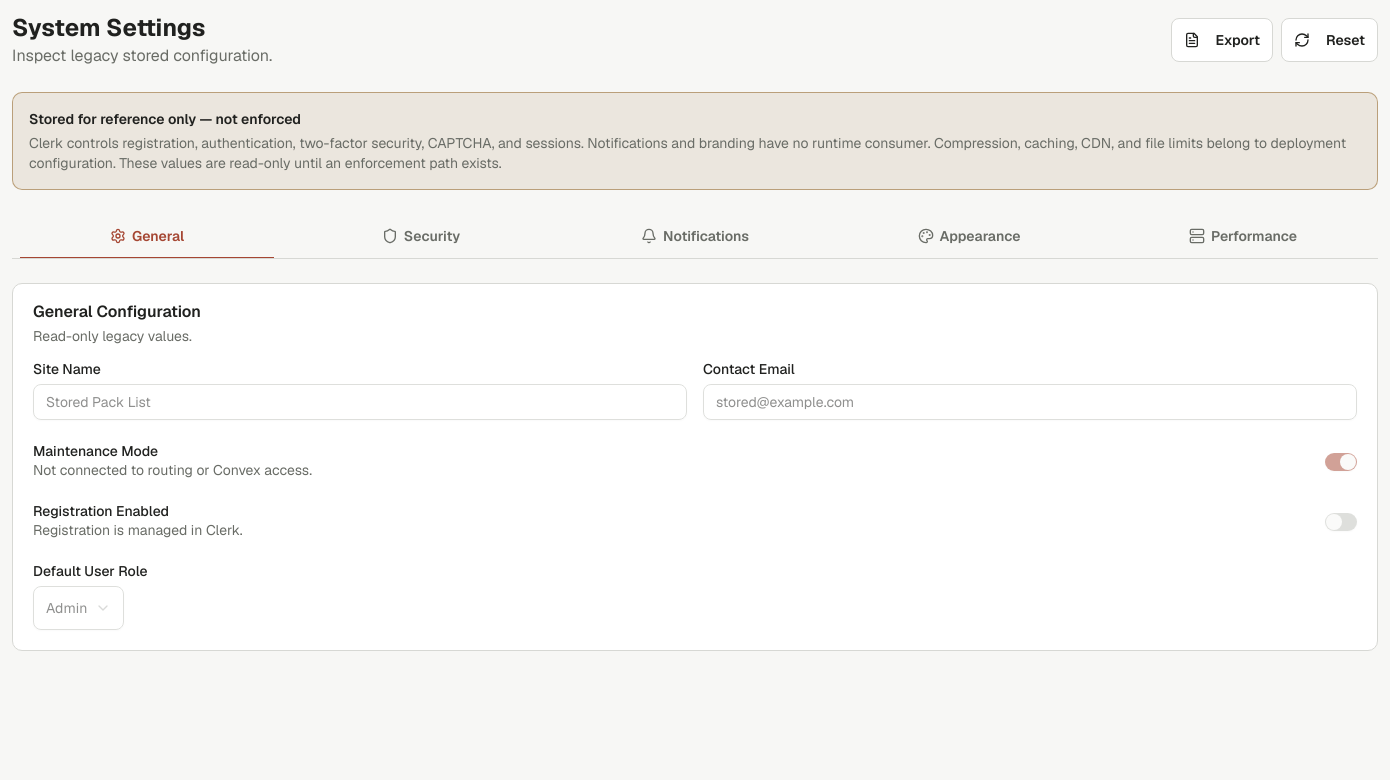
Scenario: SystemSettings › labels persisted settings as unsupported and prevents operational edits
The image size is (1390, 780).
Expected: the element that starts with "Stored for reference only — not enforced" is shown, [29,110,301,128]
Expected: the switch named "Maintenance Mode" in the row of "Maintenance Mode" is disabled, [1325,453,1357,471]
Click the tab "Security": (421, 236) [286,214,556,258]
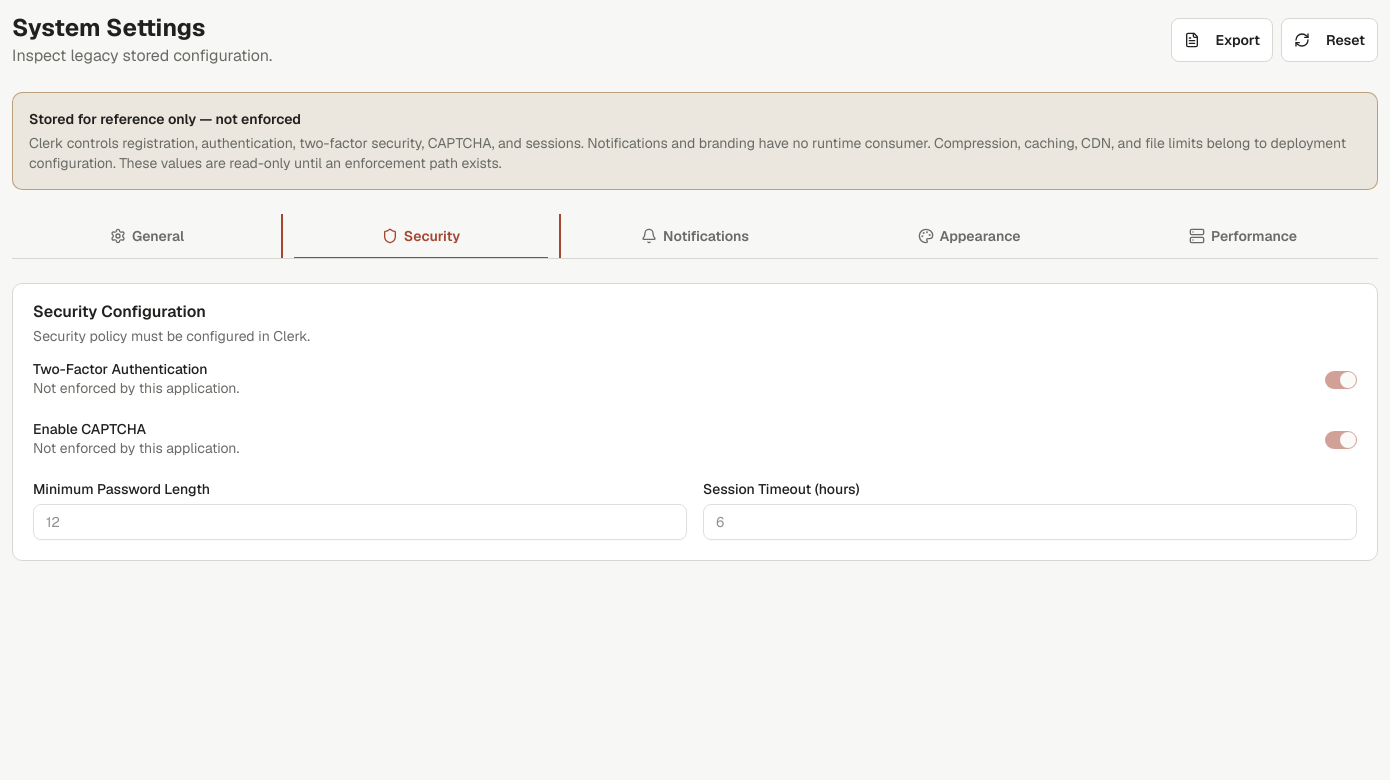
Expected: the switch named "Two-Factor Authentication" in the row of "Two-Factor Authentication" is disabled, [1325,371,1357,389]
Expected: the switch named "Enable CAPTCHA" in the row of "Enable CAPTCHA" is disabled, [1325,431,1357,449]
